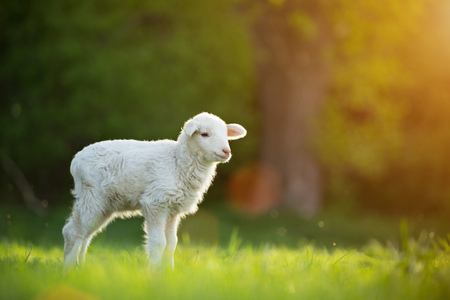koyun: (54, 114, 248, 271)
